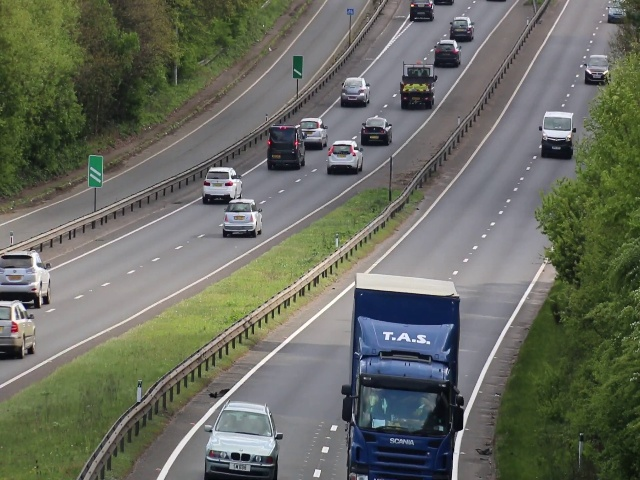car: (351, 353, 458, 480), (205, 401, 281, 480), (1, 251, 52, 309), (1, 298, 39, 357), (398, 61, 436, 111), (266, 125, 306, 169), (541, 108, 574, 161), (223, 199, 264, 237), (204, 169, 245, 201), (326, 141, 363, 173), (360, 114, 392, 146), (582, 52, 612, 84), (340, 76, 369, 108), (299, 118, 328, 148), (435, 38, 460, 70), (450, 16, 475, 42), (410, 1, 435, 20), (604, 4, 628, 22)
